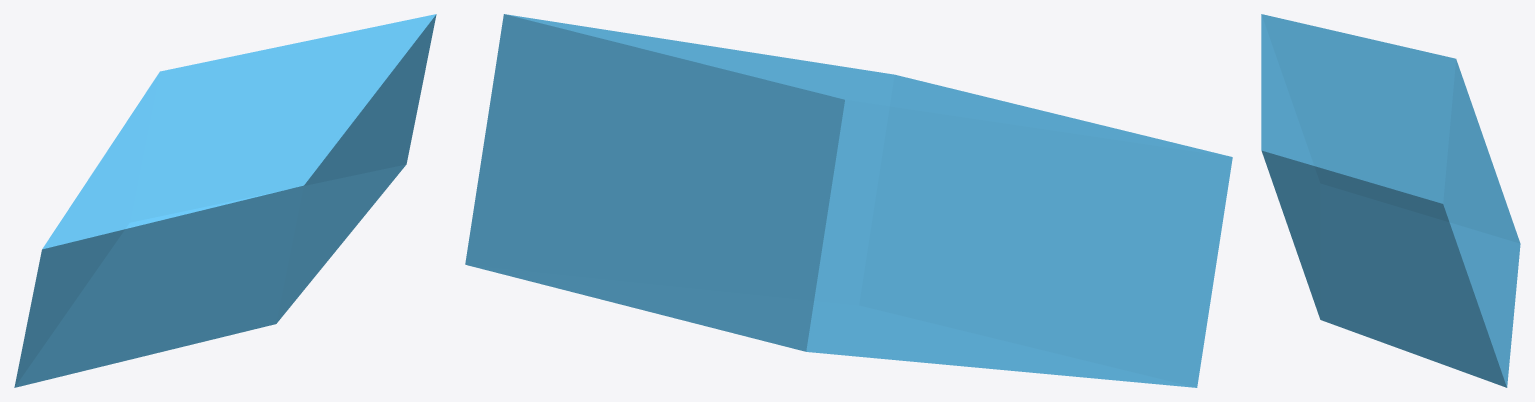
File: Event_421127236_HBrechit_38.fbx
3 renders of one model, left to right at view 1: azimuth 30°, elevation 25°; view 2: azimuth 150°, elevation 25°; view 3: azimuth 270°, elevation 25°, orthographic. The views are drawn at different scales.
Parts seen in each view (by area): view 1: Model; view 2: Model; view 3: Model.
Boxes of the visible parts, <box> form: Model: <box>14,14,436,387</box>; Model: <box>465,14,1232,387</box>; Model: <box>1261,14,1520,387</box>.
Size of the model in its own units: 1.21 by 0.5284 by 0.5311.
